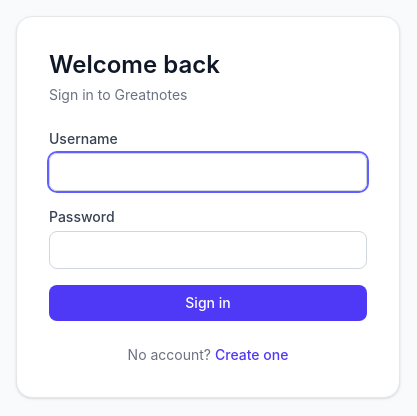
it: LoginPage › disables submit button while login is in progress
In the field: [208, 172] box [49,153,367,191], type "alice"
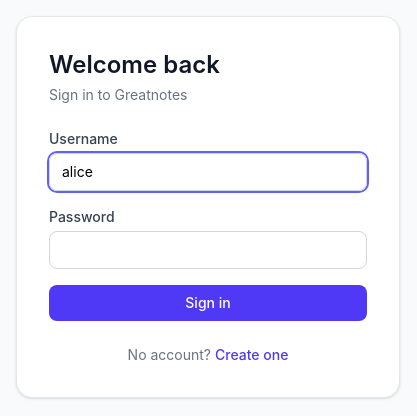
In the password field: [208, 250] box [49,231,367,269], type "password"
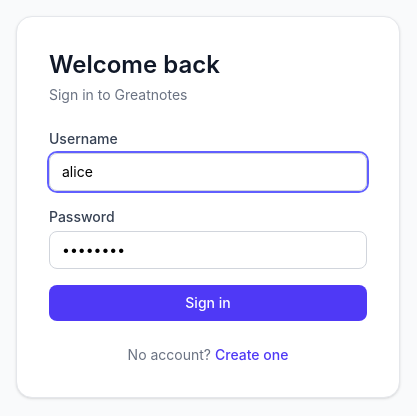
Submit the form "Username Password Sign in", box [49,129,367,321]
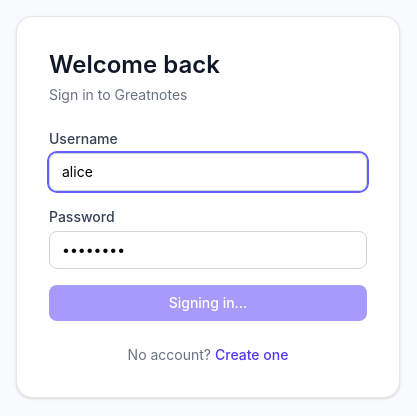
Check: the button "Signing in..." is disabled, box [49,285,367,321]
